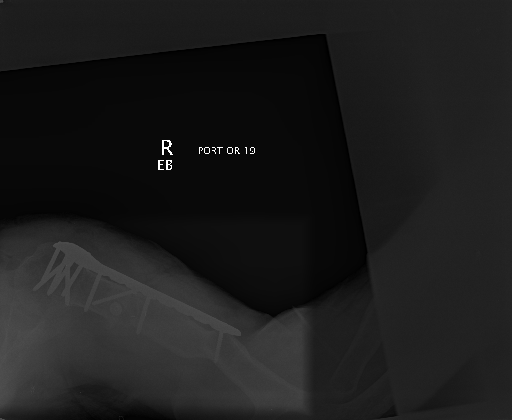implant: (38, 241, 240, 364)
